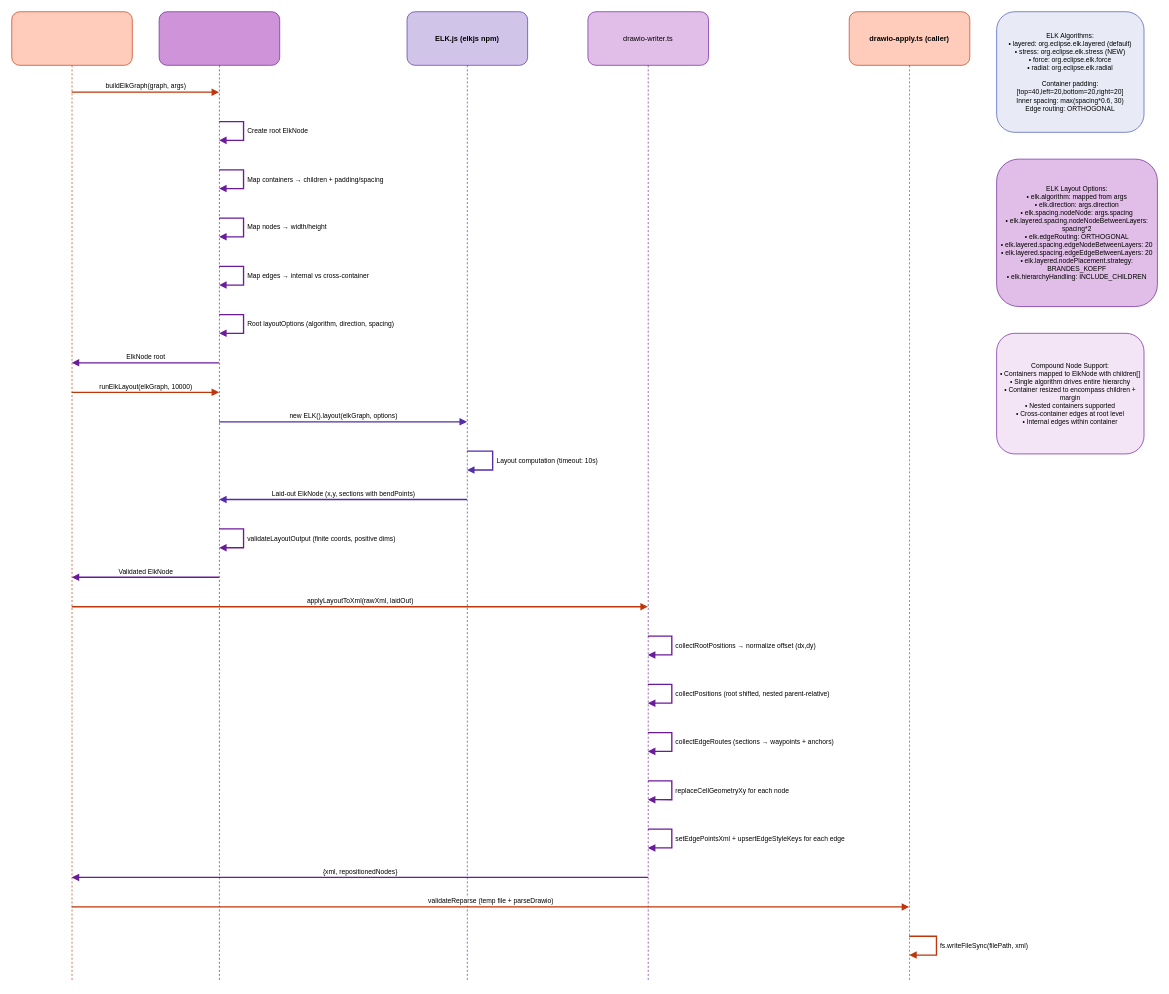
The diagram is 1169 pixels wide and 994 high, and some of its shapes have lost their labels. The shapes that lost their labels are listed below. From the top down, each one's box as (x1, y1, x2, y2) in pixels, then its label:
(11, 11, 132, 982): drawio-apply.ts
(158, 11, 280, 982): elk-layout.ts
